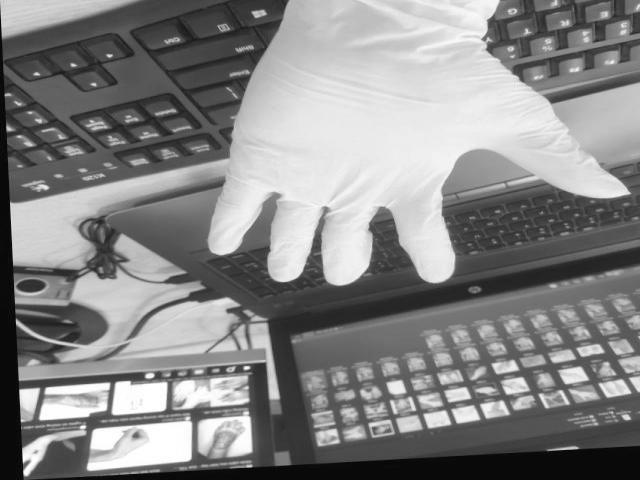gloved: (203, 0, 628, 289)
